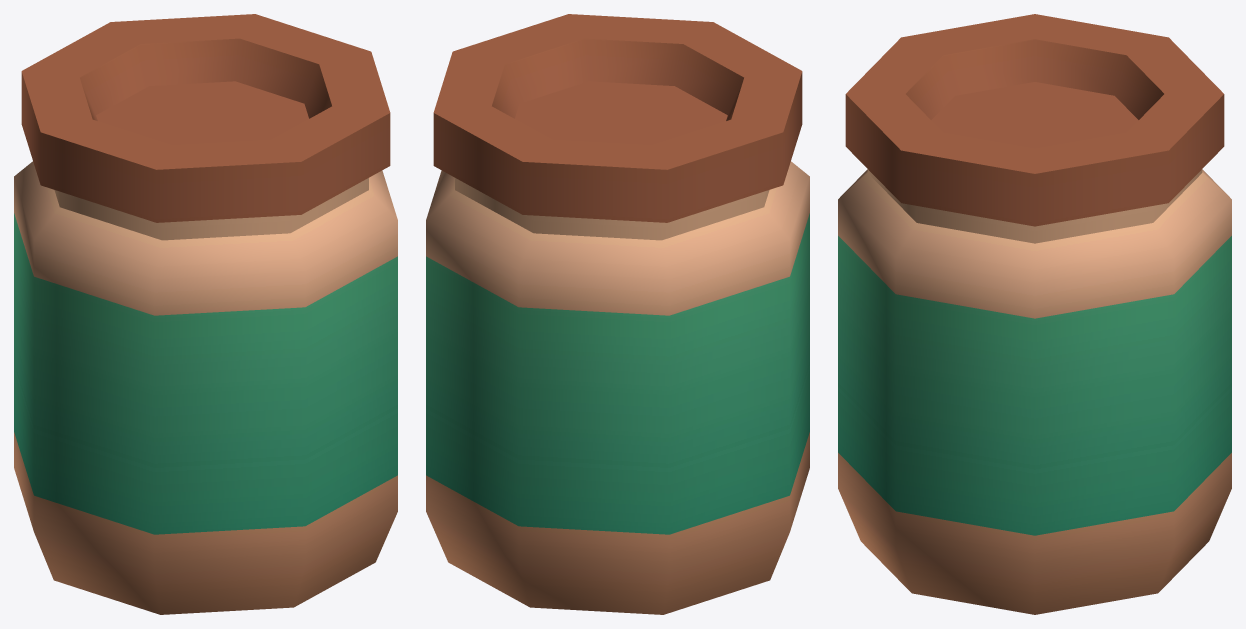
Rendered from jordnotssmor.glb.
The picture shows the model from 3 angles, left to right: view 1: azimuth 30°, elevation 25°; view 2: azimuth 150°, elevation 25°; view 3: azimuth 270°, elevation 25°; orthographic projection.
Parts seen in each view (by area): view 1: peanut-butter; view 2: peanut-butter; view 3: peanut-butter.
Part boxes in pixels (left/top/right/bottom): peanut-butter: left=14, top=14, right=397, bottom=614; peanut-butter: left=426, top=14, right=809, bottom=614; peanut-butter: left=838, top=14, right=1231, bottom=614.
Bounding box in the file's own units: 0.236 × 0.2958 × 0.236.
1 material, 1 textured.
